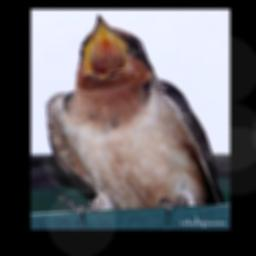Swallow: (44, 13, 223, 222)
